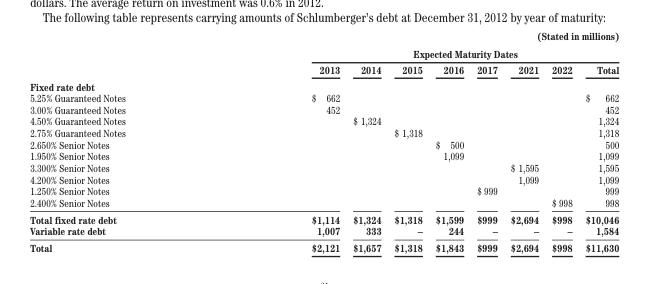table: (29, 29, 618, 253)
table column: (29, 29, 217, 253), (217, 29, 345, 253), (345, 29, 387, 253), (387, 29, 428, 253), (428, 29, 469, 253), (503, 29, 544, 253), (578, 29, 618, 253), (469, 29, 503, 253), (544, 29, 578, 253)
table column header: (29, 29, 618, 77)
table projected row header: (29, 77, 618, 91)
table row: (29, 29, 618, 61), (29, 61, 618, 77), (29, 238, 618, 253), (29, 77, 618, 91), (29, 196, 618, 210), (29, 210, 618, 224), (29, 224, 618, 238), (29, 91, 618, 103), (29, 114, 618, 126), (29, 126, 618, 138), (29, 149, 618, 161), (29, 161, 618, 173), (29, 184, 618, 196), (29, 103, 618, 114), (29, 138, 618, 149), (29, 173, 618, 184)
table spanning cell: (217, 29, 618, 61)
